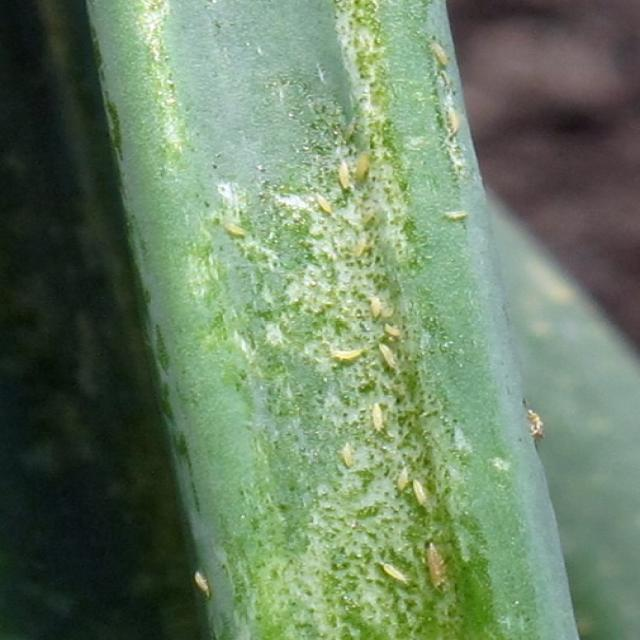Thrip-Larva-: (364, 396, 396, 438), (375, 559, 420, 588), (438, 102, 472, 140), (362, 284, 391, 325), (212, 217, 260, 240), (406, 475, 435, 511), (373, 339, 405, 371), (307, 187, 339, 218), (190, 568, 217, 602), (330, 158, 356, 192), (338, 440, 360, 477), (428, 37, 454, 67), (329, 343, 365, 364), (390, 463, 412, 495), (439, 208, 472, 220)
